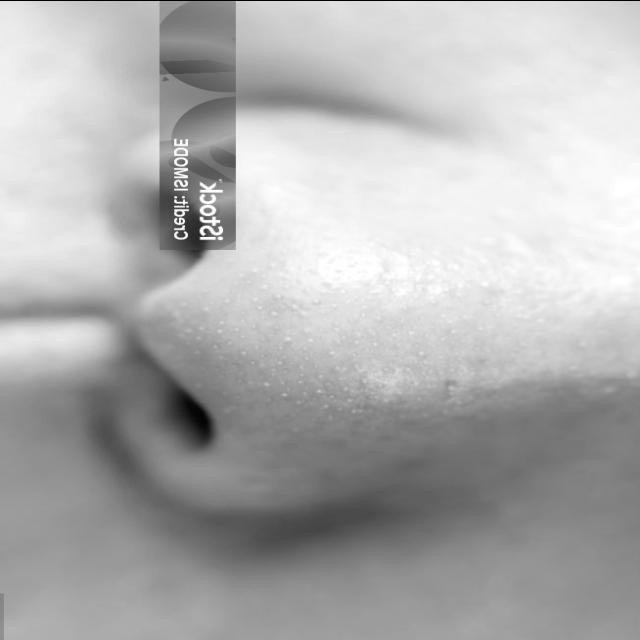whitehead: (164, 251, 579, 443)
